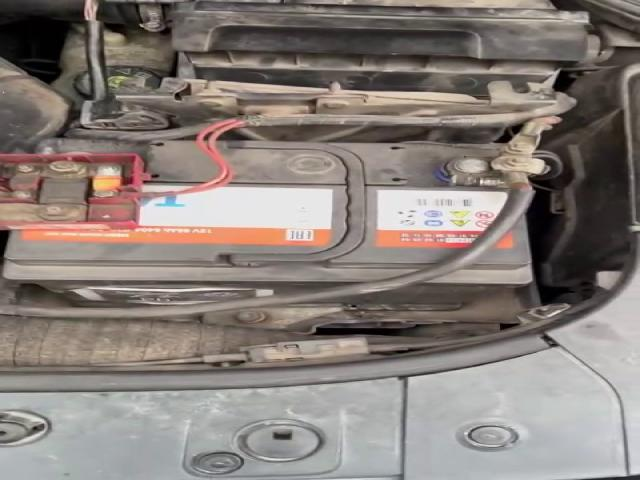accumulator: (0, 137, 545, 311)
